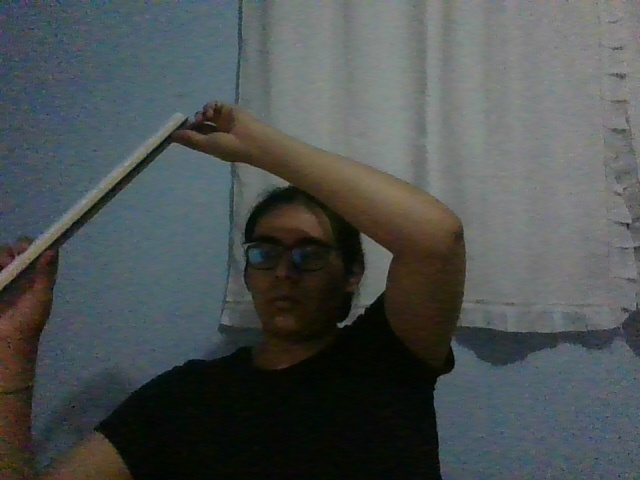regla: (1, 110, 193, 294)
